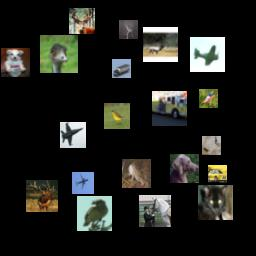airplane: (190, 37, 225, 72), (60, 122, 86, 148), (72, 172, 94, 194)
automobile: (208, 165, 227, 184)
bird: (40, 35, 78, 73), (77, 196, 112, 231), (104, 103, 130, 129), (199, 89, 218, 108), (119, 20, 138, 39)
cat: (198, 185, 233, 220), (202, 136, 221, 155)
deer: (143, 27, 178, 62), (26, 180, 58, 212), (69, 8, 95, 34)
dog: (170, 154, 199, 183), (1, 48, 30, 77)
frog: (122, 159, 151, 188)
truck: (152, 91, 187, 126), (112, 59, 131, 78)
